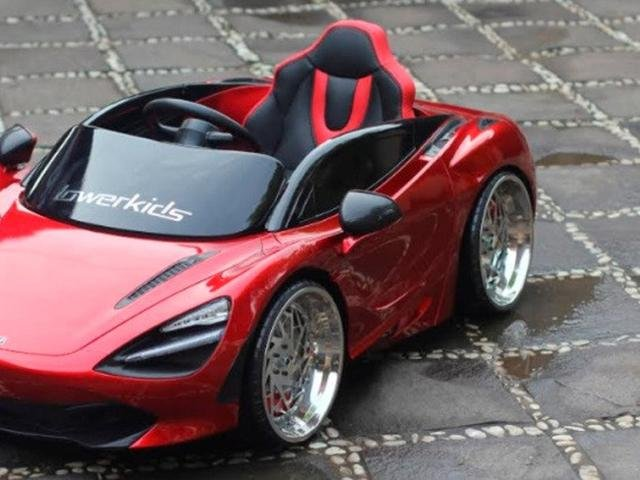mobil: (1, 45, 538, 451)
